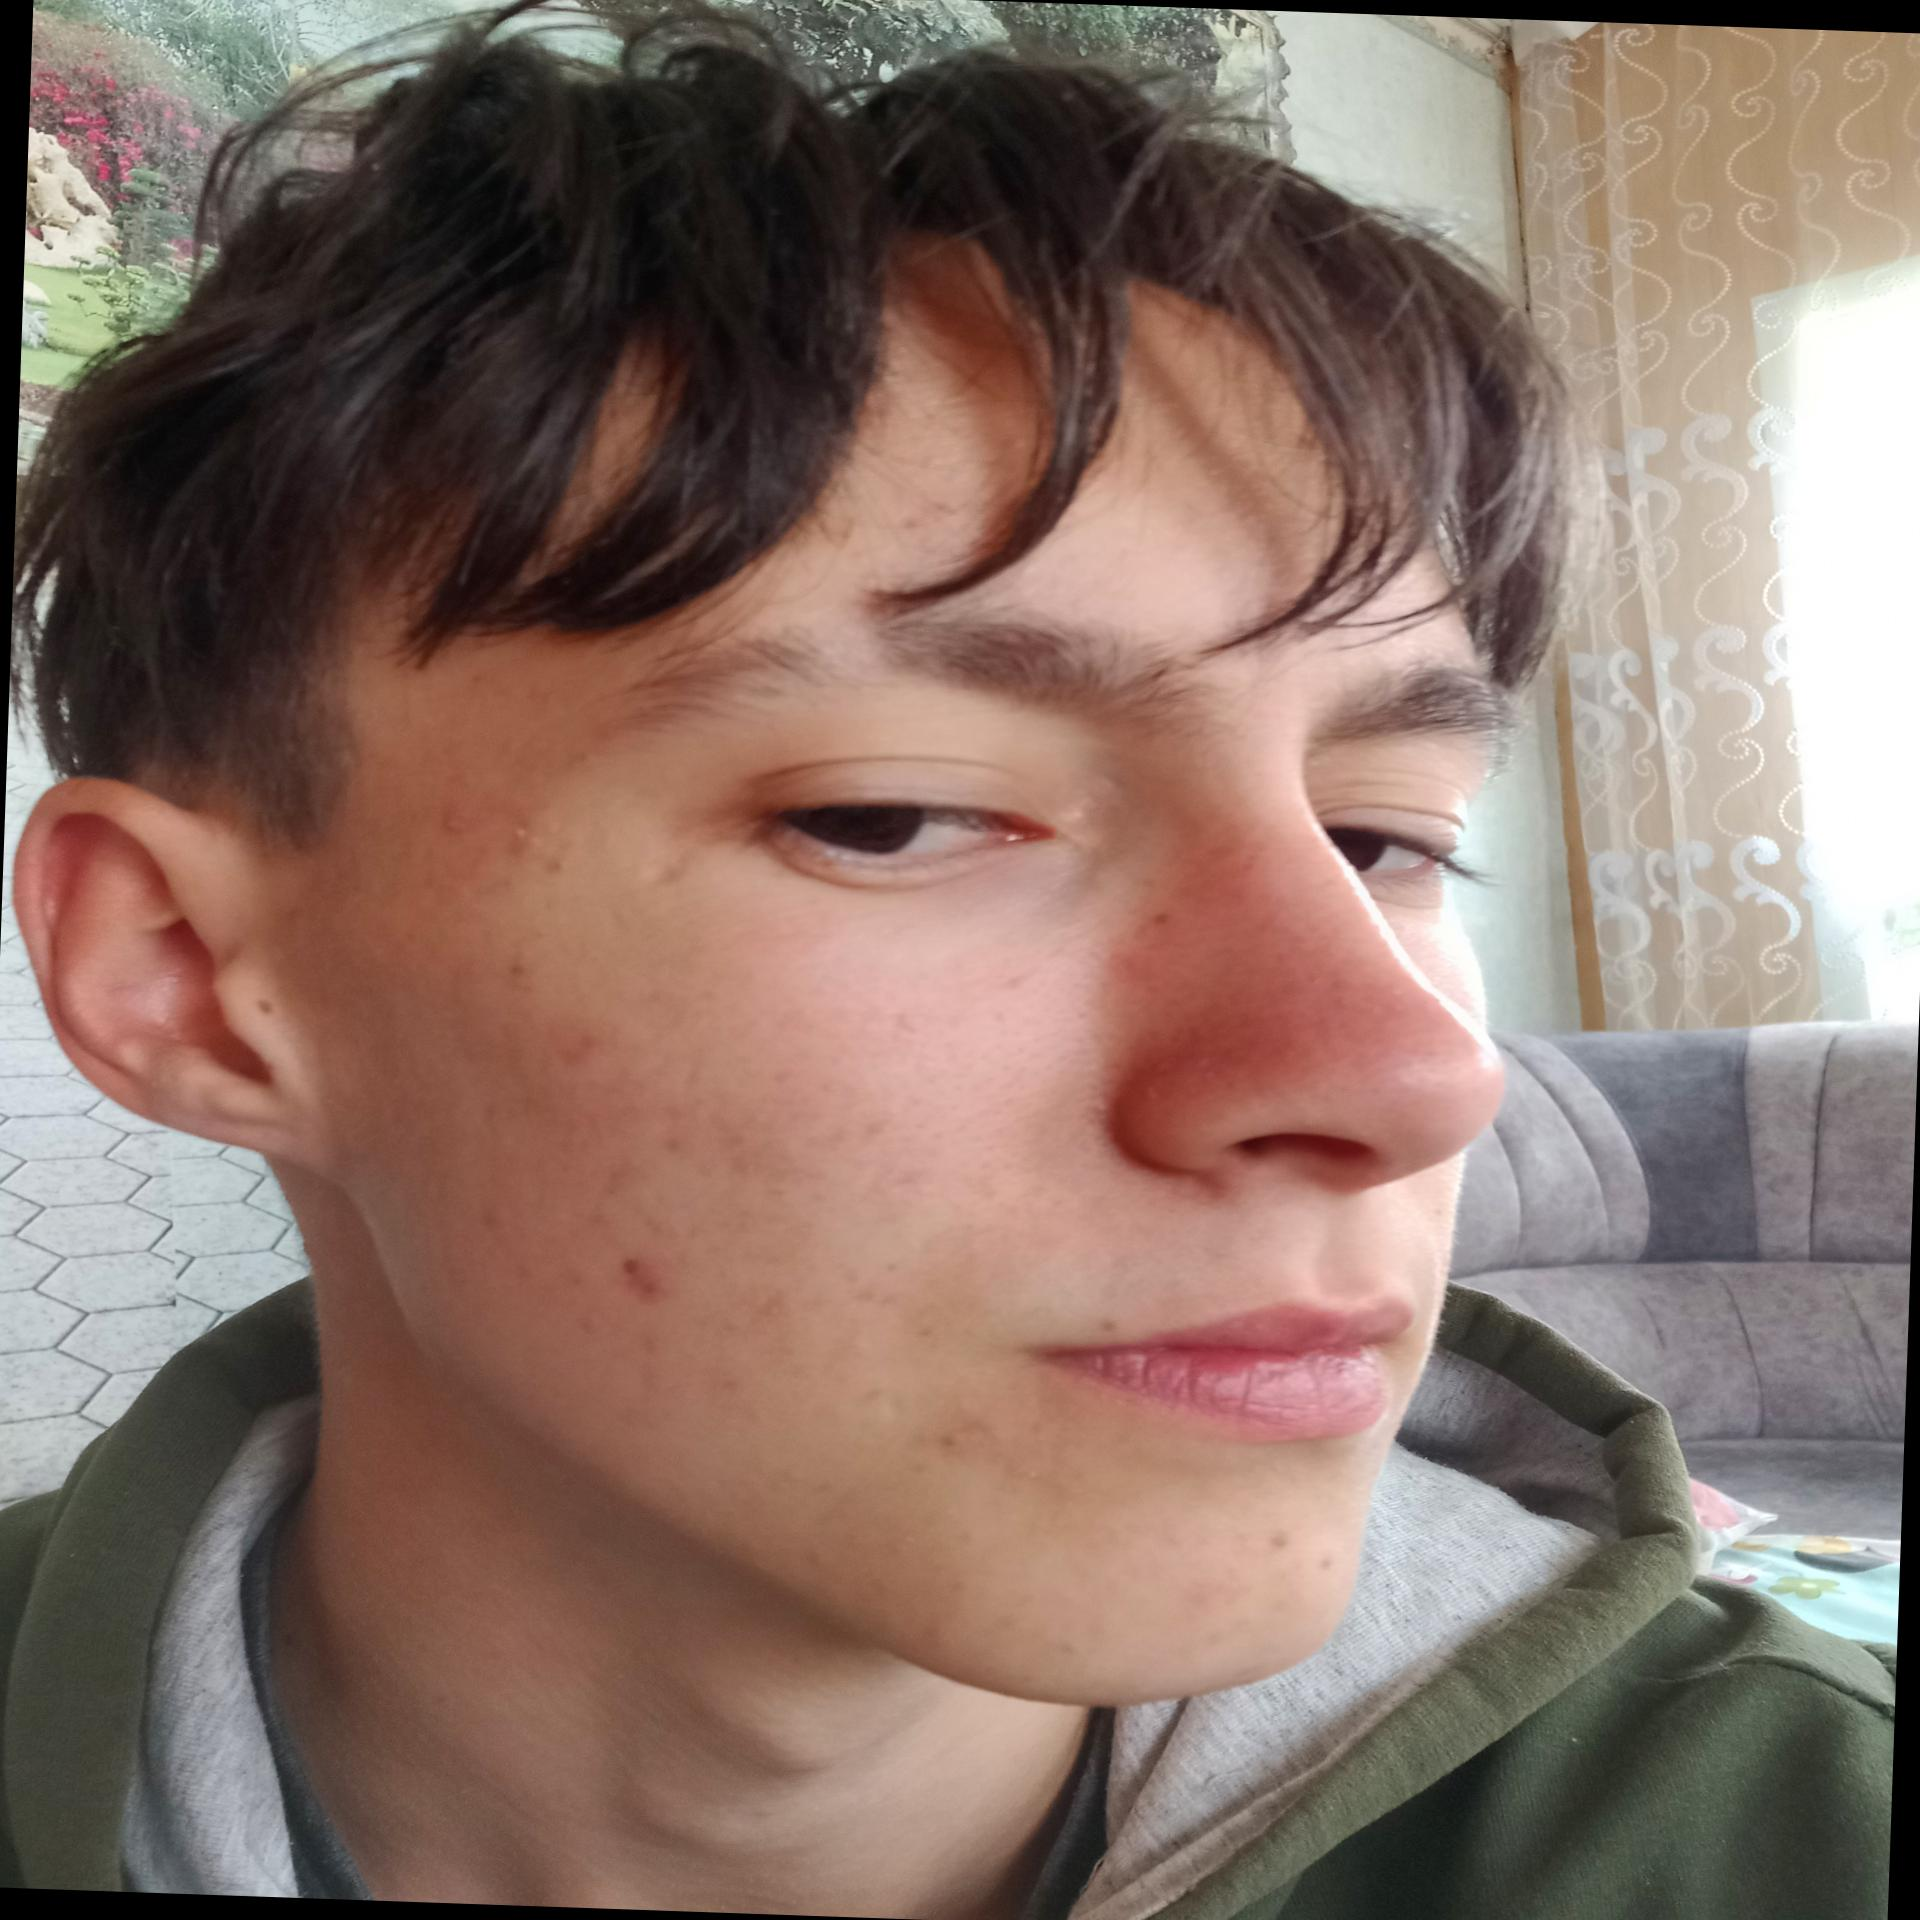Acne: (433, 804, 542, 856), (529, 1022, 615, 1074), (1264, 1524, 1342, 1574), (603, 1250, 672, 1303), (932, 1405, 995, 1458), (499, 955, 533, 985), (1145, 902, 1175, 930)
Blackhead: (652, 1101, 821, 1196)
